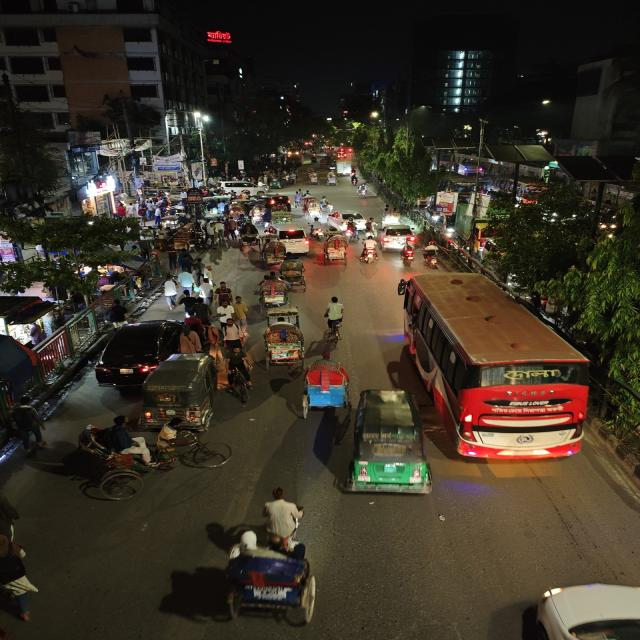bicycle: (221, 350, 254, 402), (320, 294, 345, 346)
bus: (398, 268, 598, 464)
car: (514, 576, 640, 639), (91, 316, 187, 387), (378, 224, 418, 252), (278, 226, 312, 256), (221, 180, 266, 194), (266, 194, 290, 207)
cng: (339, 386, 432, 502), (140, 354, 217, 430)
motorcycle: (358, 234, 380, 264), (420, 242, 441, 268), (398, 244, 417, 268), (344, 219, 359, 239), (317, 196, 333, 212), (357, 183, 371, 198), (364, 216, 377, 232), (351, 174, 358, 187)
pedestrian: (6, 397, 48, 455), (227, 294, 250, 336), (160, 275, 182, 309), (212, 280, 235, 312), (176, 265, 196, 295)
rickshaw: (66, 412, 220, 506), (259, 319, 307, 371), (297, 362, 341, 416), (256, 272, 290, 308), (280, 258, 309, 292), (232, 234, 262, 265), (259, 240, 288, 270), (322, 233, 349, 265), (271, 210, 297, 225), (324, 172, 339, 186), (307, 175, 320, 185)
truck: (338, 162, 352, 174)
